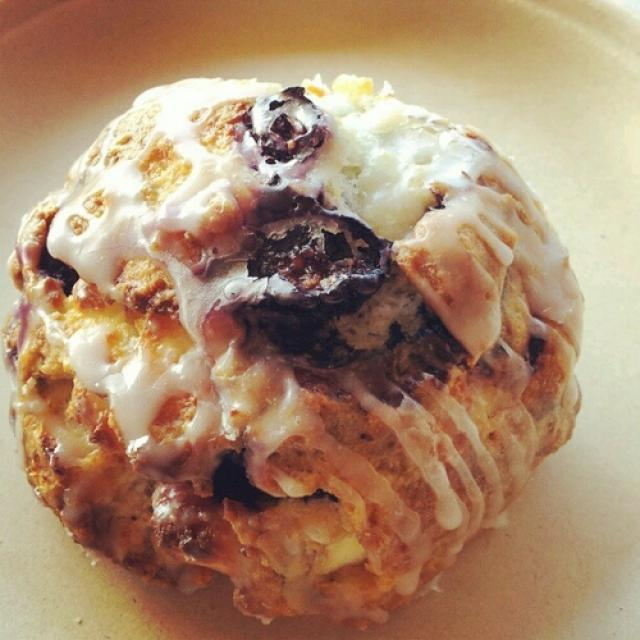面包点心: (11, 47, 617, 626)
